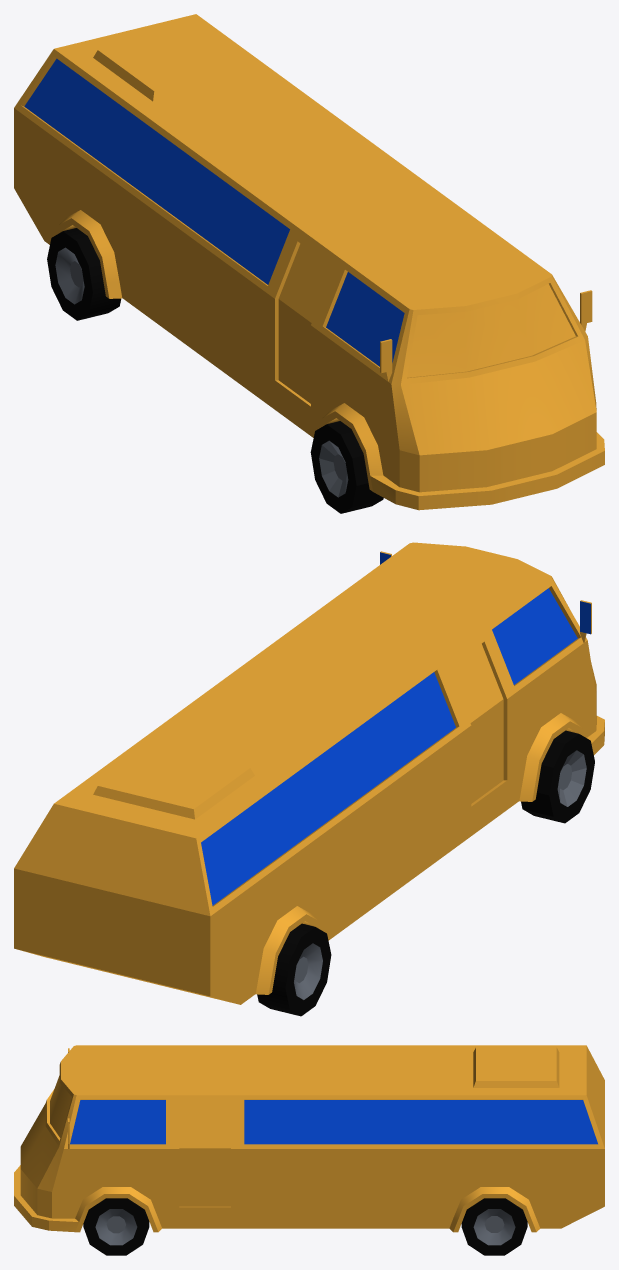
Rendered from autobus_2.FBX.
3 views of the same model, one above another, from view 1: azimuth 30°, elevation 25°; view 2: azimuth 150°, elevation 25°; view 3: azimuth 270°, elevation 25° (orthographic). The views are drawn at different scales.
Visible parts, largest first — view 1: Autobus; view 2: Autobus; view 3: Autobus.
Boxes of the visible parts, bbox=[...] form: Autobus: bbox=[14, 14, 604, 513]; Autobus: bbox=[14, 542, 604, 1016]; Autobus: bbox=[14, 1045, 604, 1255].
Bounding box in the file's own units: 127 × 115 × 398.
